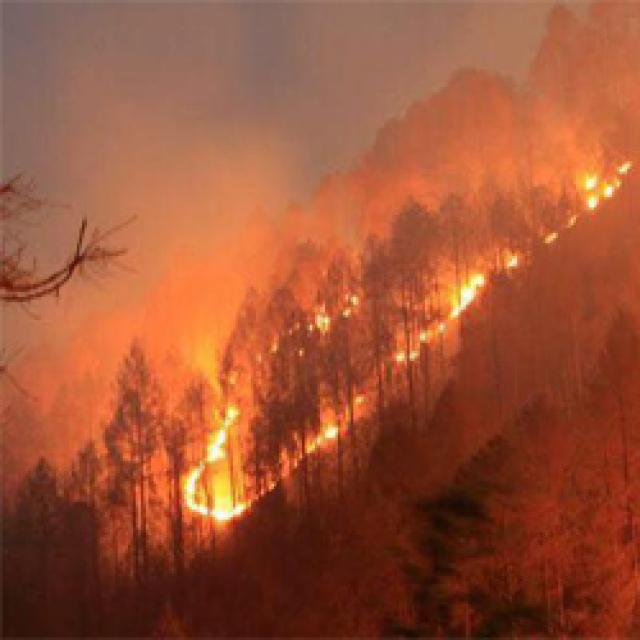Fire: (173, 402, 246, 522), (301, 395, 364, 451), (578, 164, 634, 208), (446, 266, 482, 314), (302, 302, 332, 336), (272, 323, 294, 354), (418, 320, 447, 340), (344, 287, 364, 315), (392, 350, 424, 362), (504, 250, 522, 270), (562, 215, 584, 230), (544, 228, 558, 244)
Smoke: (0, 0, 640, 160), (28, 160, 546, 292), (2, 292, 176, 550), (174, 288, 268, 396)
